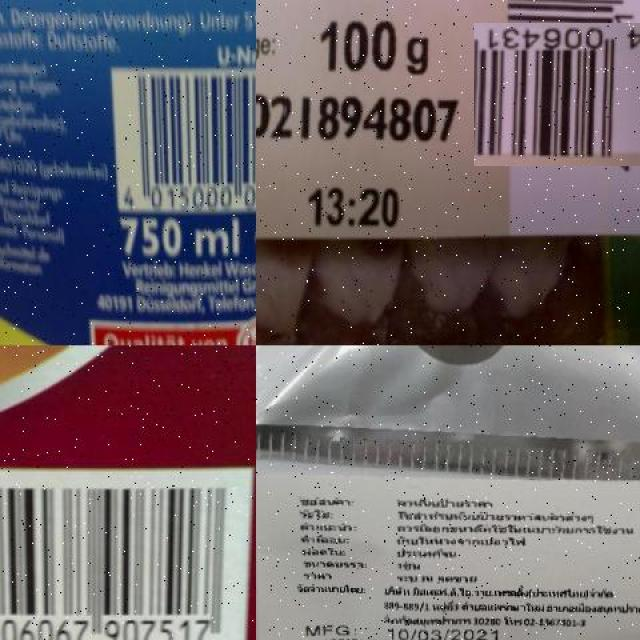Barcode: (0, 461, 255, 640), (485, 11, 640, 177), (111, 64, 256, 215)
